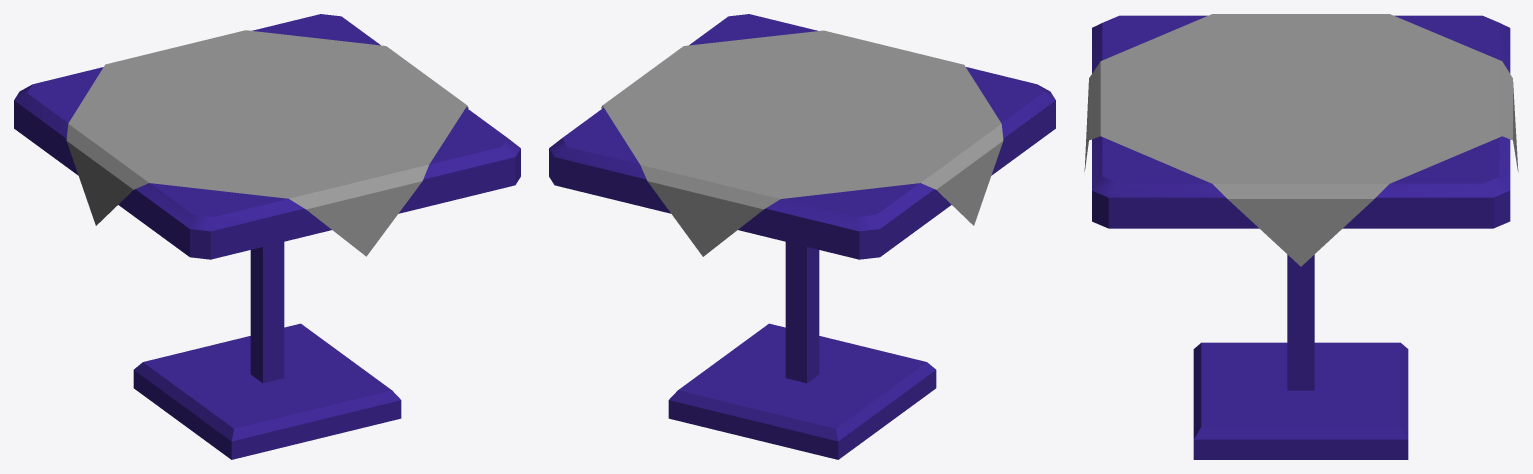
The model's file is Tisch.FBX.
3 views of the same model, side by side, from view 1: azimuth 30°, elevation 25°; view 2: azimuth 150°, elevation 25°; view 3: azimuth 270°, elevation 25° (orthographic). The views are drawn at different scales.
Parts seen in each view (by area): view 1: Table; view 2: Table; view 3: Table.
Part boxes in pixels (x1,y1,x2,y2): Table: (14, 14, 520, 459); Table: (549, 14, 1055, 459); Table: (1084, 14, 1518, 459).
Size of the model in its own units: 41.22 by 33.09 by 41.2.
